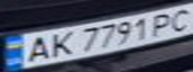1: (130, 15, 154, 42)
7: (75, 25, 103, 53), (96, 21, 121, 51)
9: (115, 18, 139, 46)
A: (18, 34, 54, 64)
C: (163, 6, 193, 33)
K: (42, 28, 78, 58)
P: (145, 10, 178, 38)
